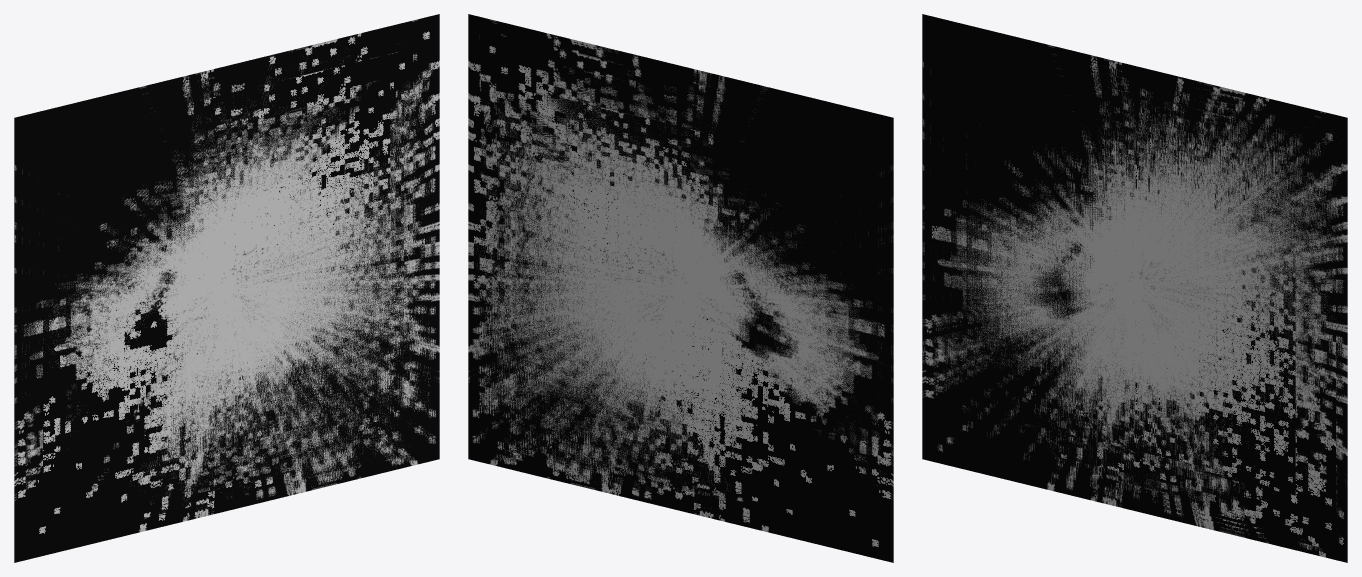
Rendered from waterfall_bones.fbx.
The picture shows the model from 3 angles, left to right: view 1: azimuth 30°, elevation 25°; view 2: azimuth 150°, elevation 25°; view 3: azimuth 330°, elevation 25°; orthographic projection.
Parts seen in each view (by area): view 1: _122; view 2: _122; view 3: _122.
Part boxes in pixels (x1,y1,x2,y2): _122: (14, 14, 439, 562); _122: (468, 14, 893, 562); _122: (922, 14, 1347, 562).
Bounding box in the file's own units: 4.39 × 4.39 × 1.01e-06.
1 material, 1 textured.
